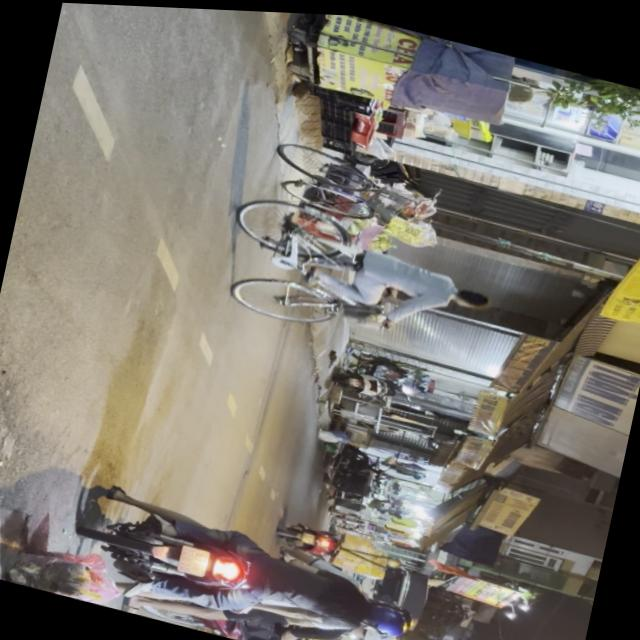helmet: (360, 595, 412, 634)
licenseplate: (68, 478, 429, 640)
motorcyclist: (352, 618, 400, 640)
nohelmet: (174, 542, 210, 575)
